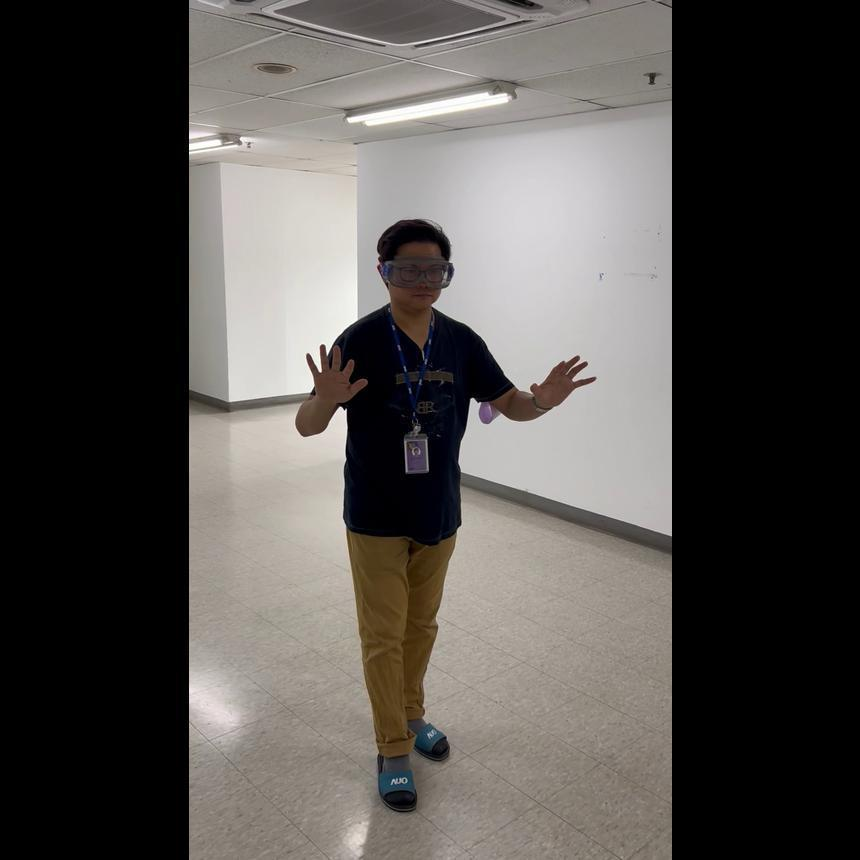No-gloves: (302, 337, 363, 402), (527, 350, 593, 409)
